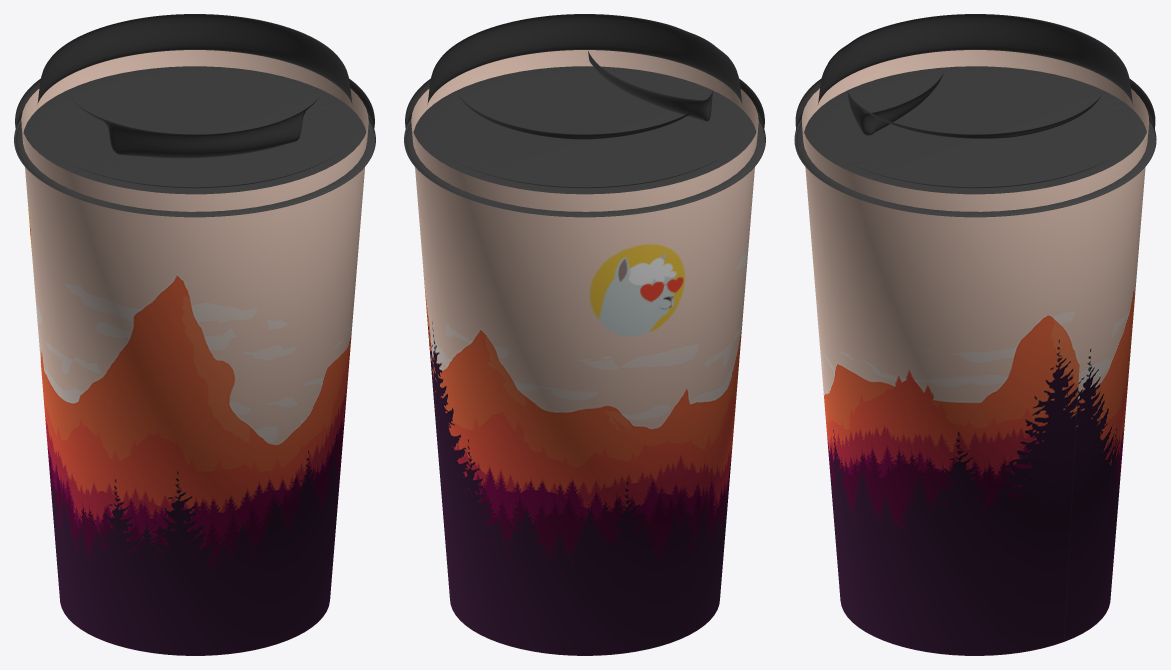
Rendered from mugModel.glb.
3 renders of one model, left to right at view 1: azimuth 30°, elevation 25°; view 2: azimuth 150°, elevation 25°; view 3: azimuth 270°, elevation 25°, orthographic.
Parts seen in each view (by area): view 1: Coffee Coup, Lid; view 2: Coffee Coup, Lid; view 3: Coffee Coup, Lid.
Boxes of the visible parts, x1,y1,x2,y2 form: Coffee Coup: (21, 50, 368, 655); Lid: (14, 14, 375, 217); Coffee Coup: (411, 50, 758, 655); Lid: (404, 14, 765, 217); Coffee Coup: (802, 50, 1148, 655); Lid: (794, 14, 1156, 217).
Bounding box in the file's own units: 6.8 × 10.8 × 6.8.
Materials: 2 (1 with a texture image).
